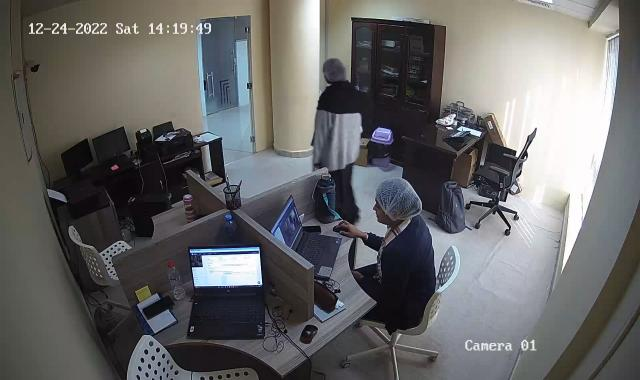hairnet: (372, 178, 423, 225), (322, 57, 347, 87)
